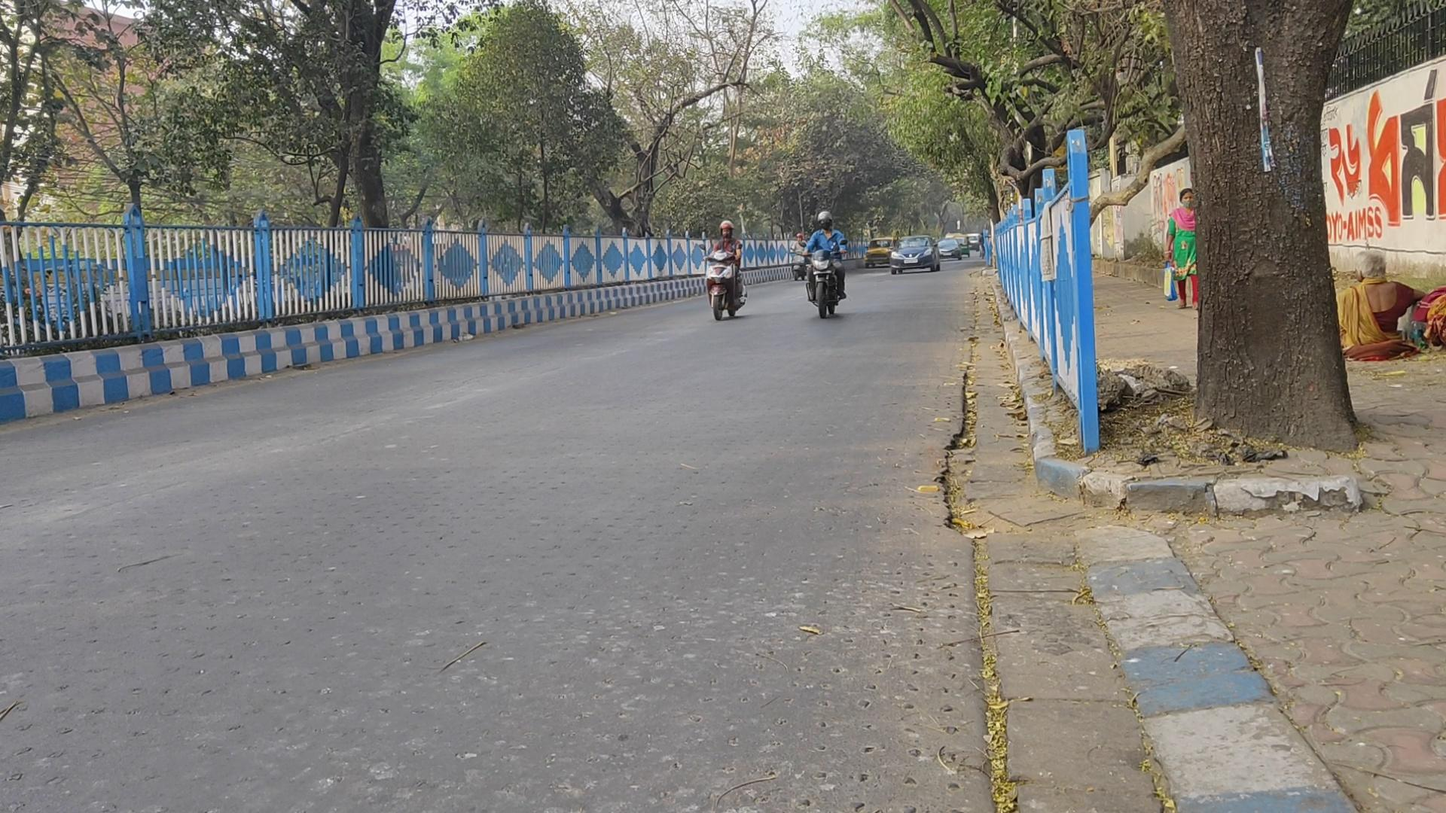bike: (794, 211, 848, 318), (700, 221, 748, 321), (789, 233, 810, 282)
car: (889, 235, 941, 275), (865, 237, 898, 269), (937, 238, 963, 261)
